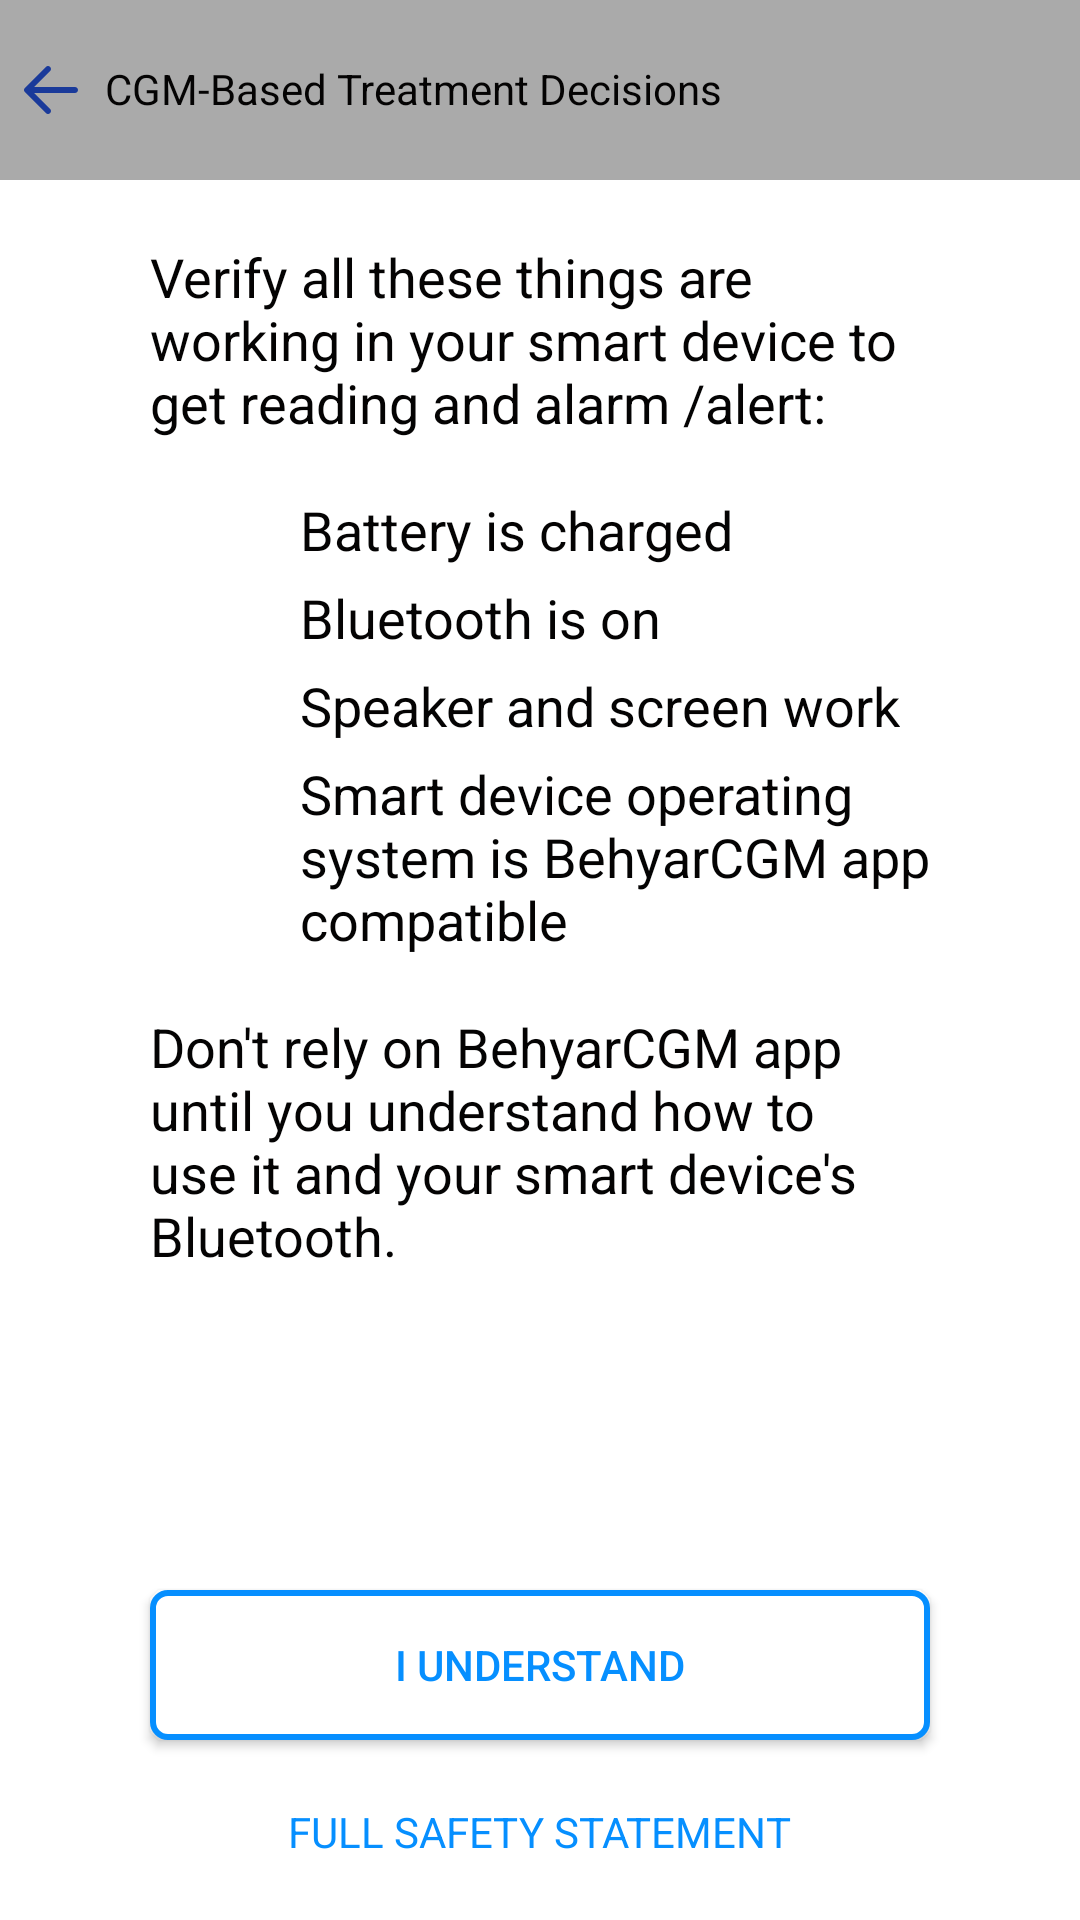

Point at icon controls on the screen. Image size 1080x1920, points as [x,y].
left: [51,90]
